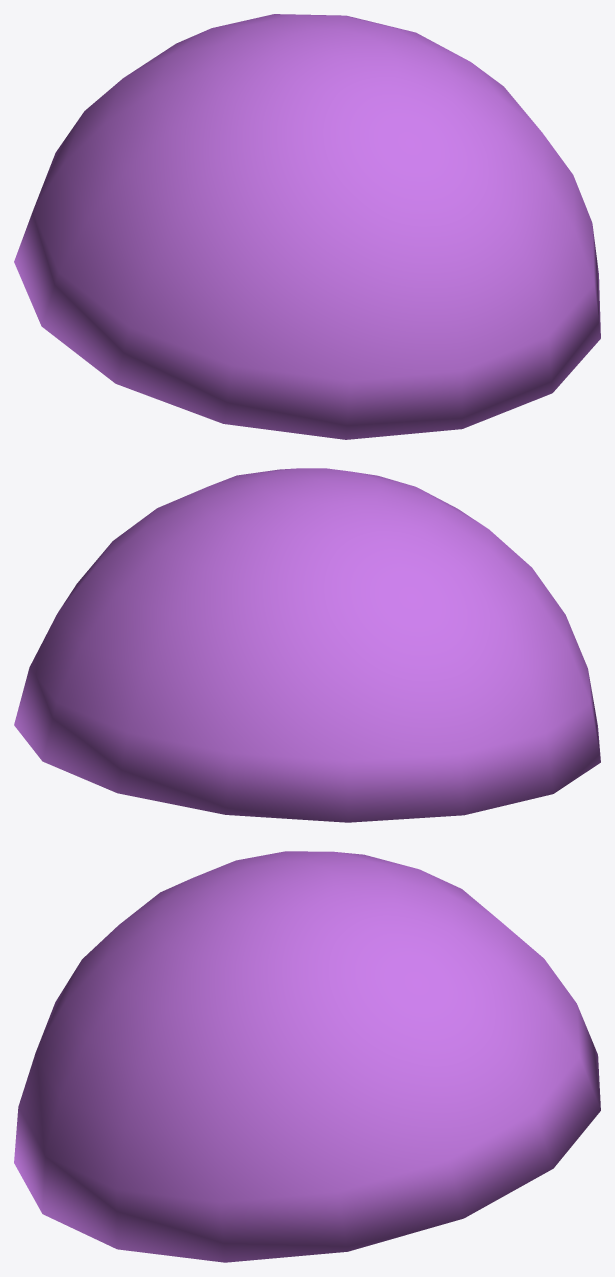
File: Parpado sup izq.fbx
The picture shows the model from 3 angles, top to bottom: view 1: azimuth 30°, elevation 25°; view 2: azimuth 150°, elevation 25°; view 3: azimuth 270°, elevation 25°; orthographic projection.
Parts seen in each view (by area): view 1: Parpado sup izq; view 2: Parpado sup izq; view 3: Parpado sup izq.
Part boxes in pixels (box(x1,y1,x2,y2)): Parpado sup izq: box(14, 14, 600, 439); Parpado sup izq: box(14, 468, 600, 822); Parpado sup izq: box(14, 851, 600, 1262).
Size of the model in its own units: 7.83 by 4.1 by 7.74.
